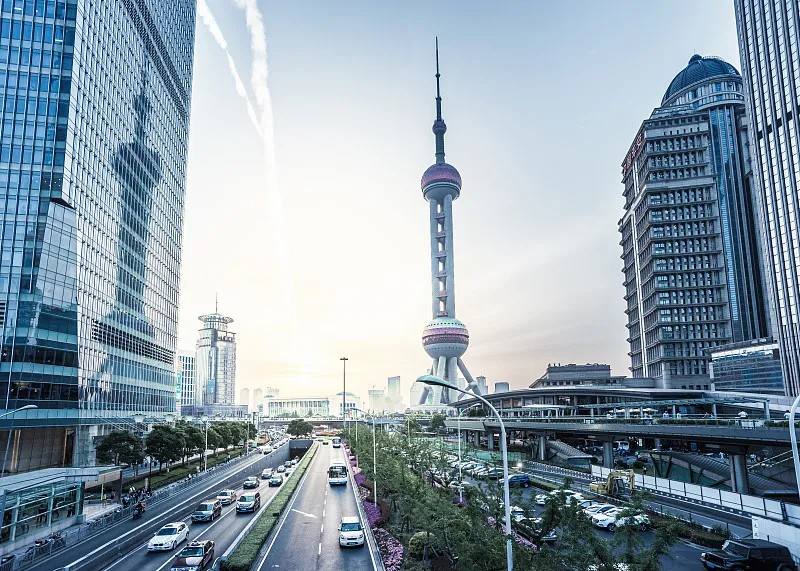Oriental: (418, 37, 483, 399)
